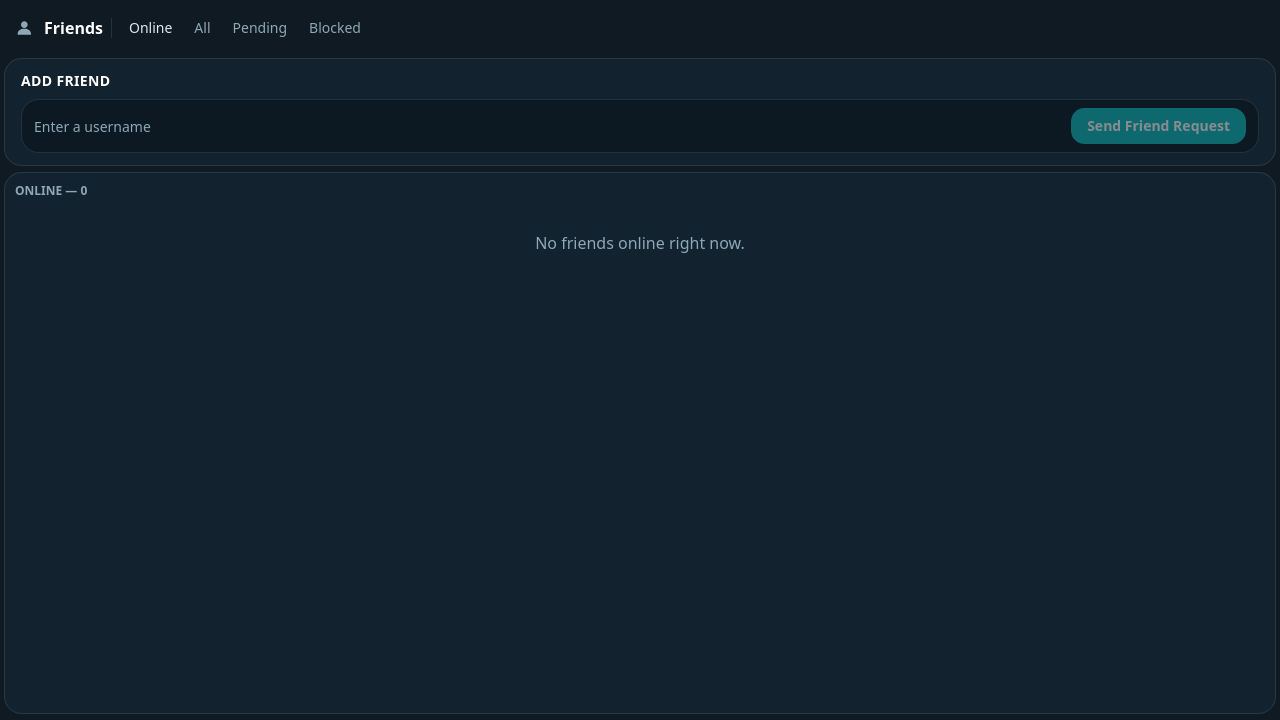
Test case: FriendsList › shows error message on failed request
The image size is (1280, 720).
Type "nobody" into the field with placeholder "Enter a username" at (549, 126), box top-left (34, 108), bottom-right (1063, 144)
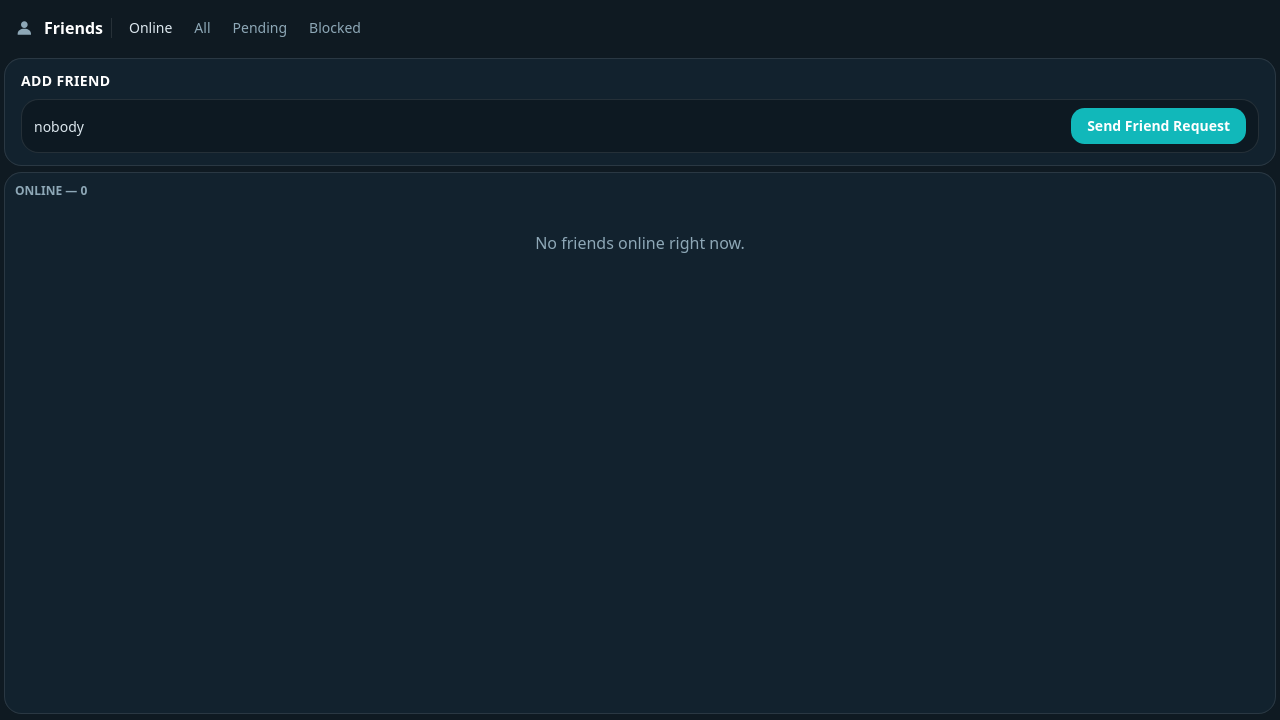
Click the button "Send Friend Request" at (1159, 126), box top-left (1071, 108), bottom-right (1246, 144)
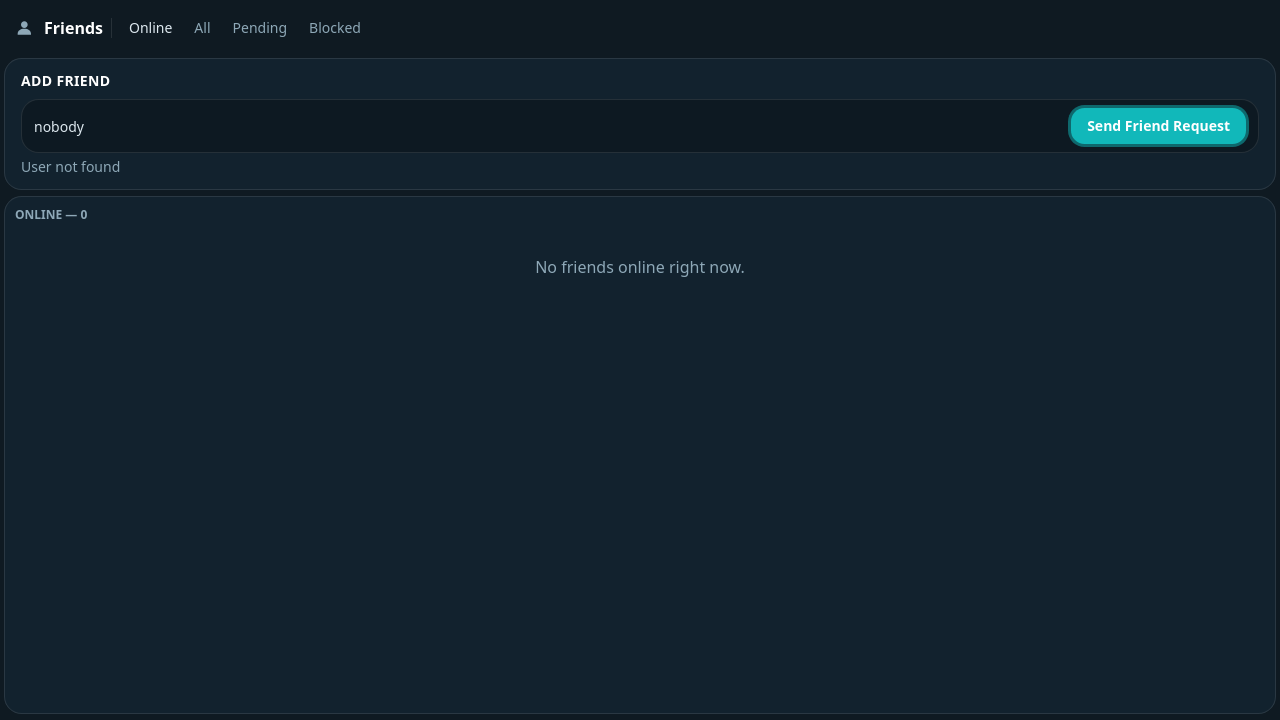
Check: the text "User not found" is shown, box top-left (21, 157), bottom-right (120, 176)
